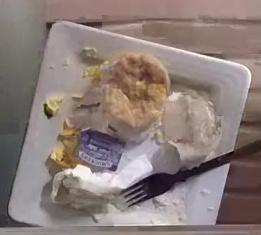biscuit: (100, 52, 169, 126)
